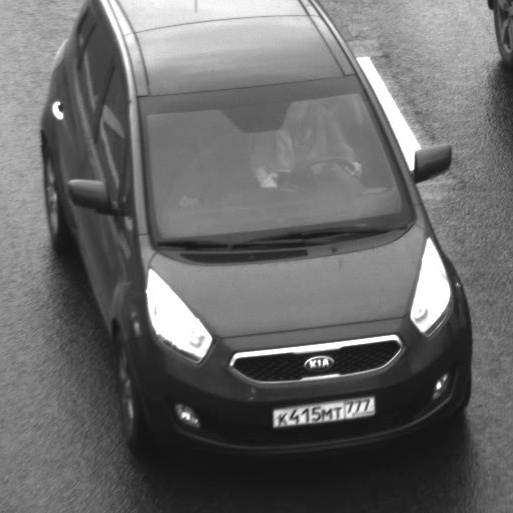plate: (262, 388, 383, 435)
